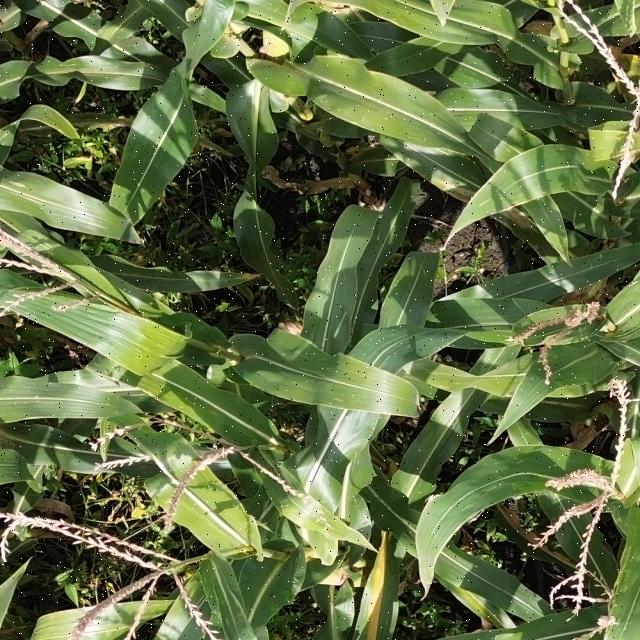northern-leaf-blight: (341, 532, 396, 640)
southern-leaf-blight: (463, 147, 582, 218), (455, 448, 549, 516), (136, 115, 194, 192)
